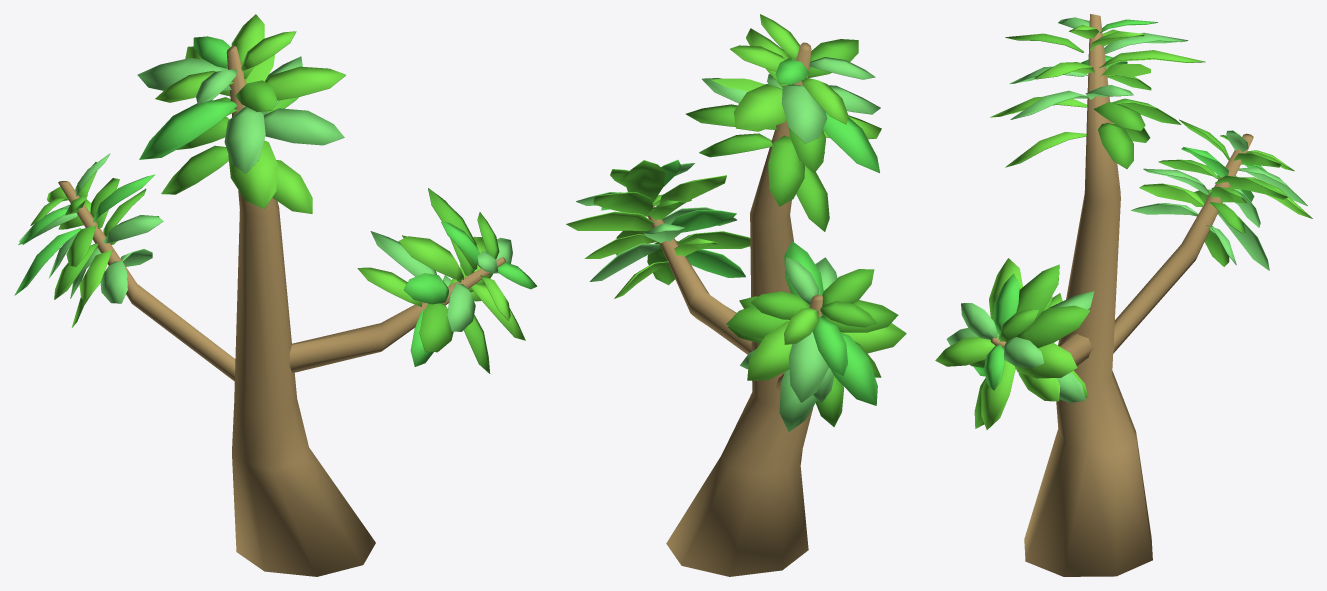
Rendered from Tree1.fbx.
The picture shows the model from 3 angles, left to right: view 1: azimuth 30°, elevation 25°; view 2: azimuth 150°, elevation 25°; view 3: azimuth 270°, elevation 25°; orthographic projection. The views are drawn at different scales.
Visible parts, largest first — view 1: Tree trunk 2; view 2: Tree trunk 2; view 3: Tree trunk 2.
Part boxes in pixels (<box>): Tree trunk 2: <box>14,14,537,576</box>; Tree trunk 2: <box>566,14,906,576</box>; Tree trunk 2: <box>935,14,1312,576</box>.
Bounding box in the file's own units: 82.69 × 104 × 69.68.
